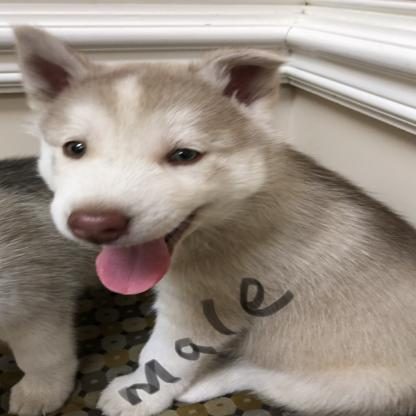husky: (12, 21, 416, 416)
